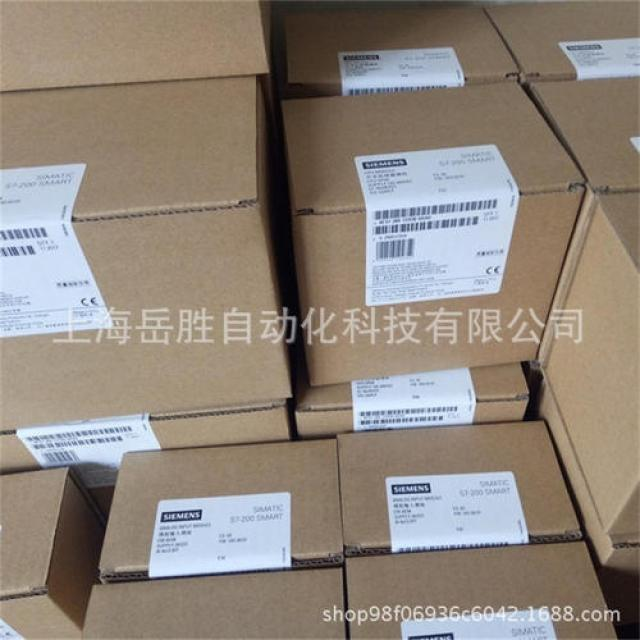box: (0, 76, 292, 433), (283, 81, 588, 385), (2, 1, 278, 145), (0, 401, 291, 527), (96, 437, 344, 583), (337, 419, 584, 556), (544, 191, 639, 533), (342, 540, 616, 638), (294, 325, 530, 437), (526, 374, 638, 603), (285, 5, 521, 97), (82, 566, 346, 639), (0, 467, 108, 639), (528, 74, 639, 197), (478, 1, 639, 79)
